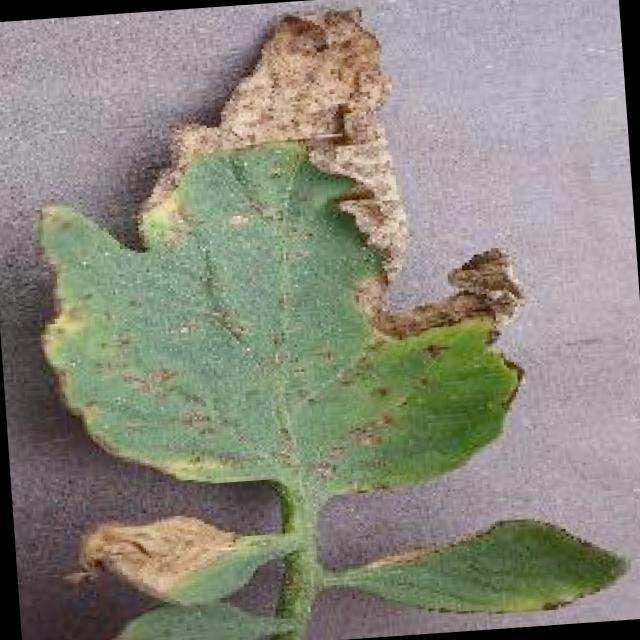Tomato bacterial spot leaf: (20, 0, 543, 524), (361, 505, 639, 629), (60, 504, 282, 620)
